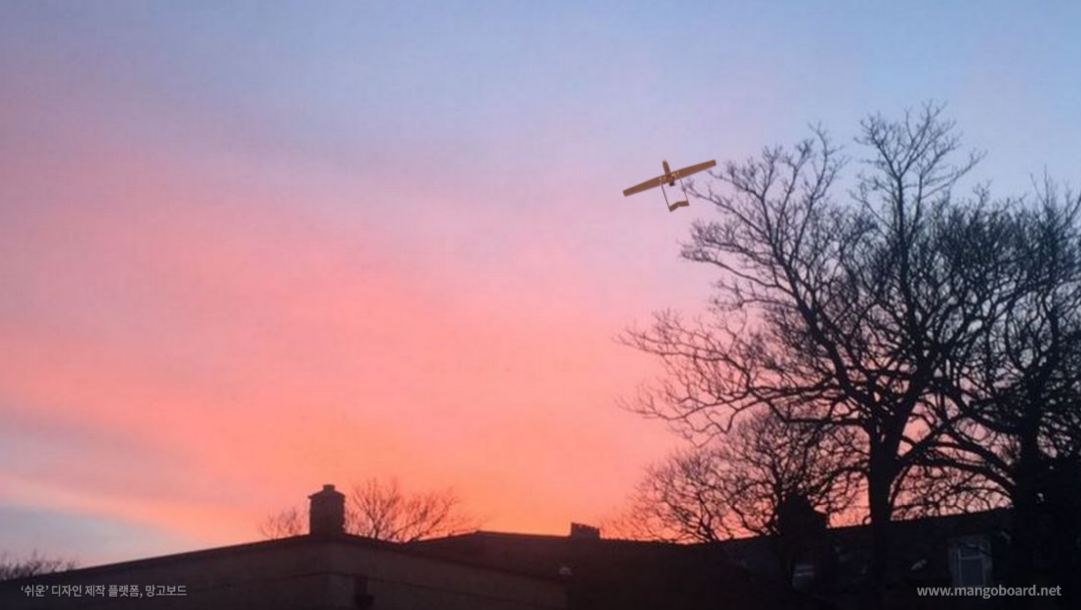military drone: (622, 158, 717, 211)
